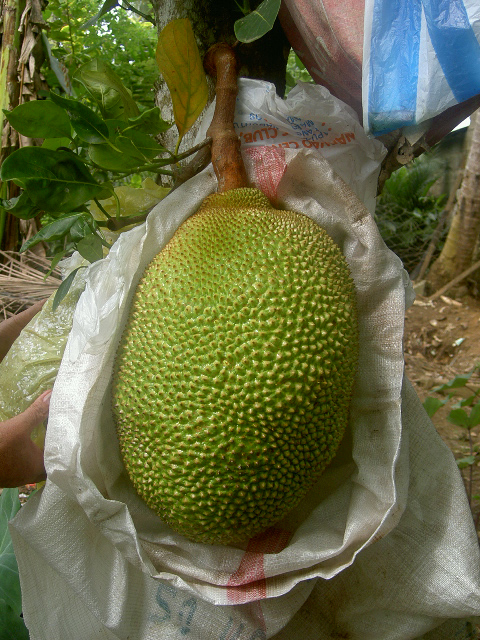jackfruit: (110, 38, 360, 548)
